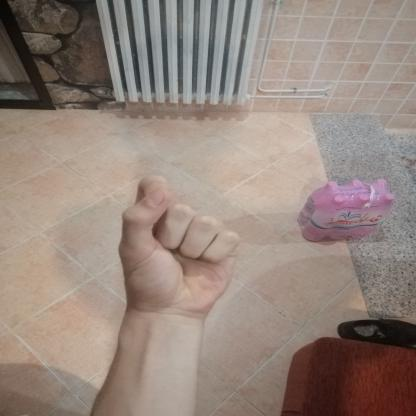FAA: (101, 167, 254, 327)
